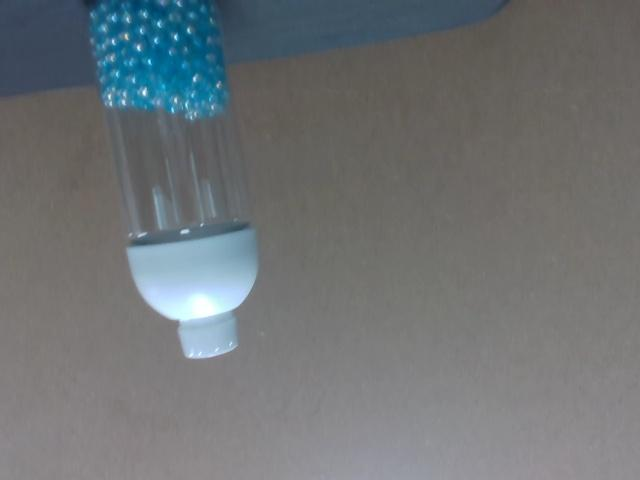blue_bottle: (88, 0, 230, 121)
